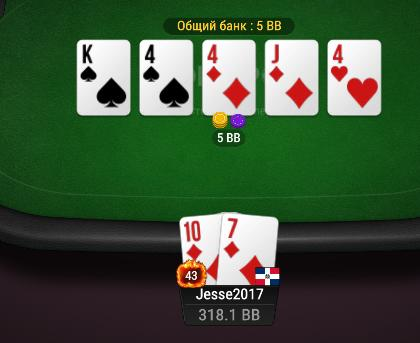10d: (180, 214, 223, 286)
4d: (202, 40, 256, 114)
4h: (328, 40, 381, 114)
4s: (140, 40, 192, 114)
7d: (220, 213, 280, 285)
Jd: (266, 40, 318, 114)
Ks: (77, 40, 130, 115)
